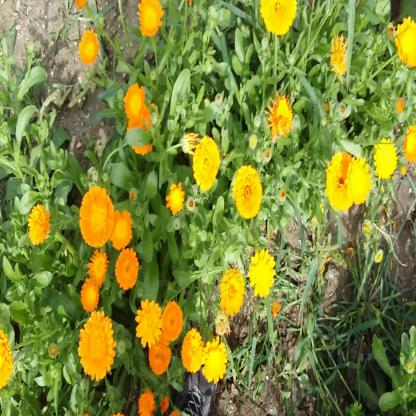marigold: (328, 150, 368, 209), (79, 313, 113, 376), (81, 189, 111, 247), (194, 135, 219, 190), (126, 107, 154, 156), (233, 166, 260, 216), (133, 298, 159, 342), (250, 251, 274, 297), (268, 94, 294, 136), (202, 340, 226, 381), (221, 269, 243, 313), (116, 248, 136, 293), (138, 0, 163, 36), (28, 204, 50, 244), (376, 141, 398, 178), (161, 303, 182, 340), (183, 331, 202, 369), (149, 344, 171, 375), (165, 180, 185, 214), (112, 212, 130, 248), (124, 85, 144, 117), (81, 30, 97, 63), (81, 282, 99, 306)
